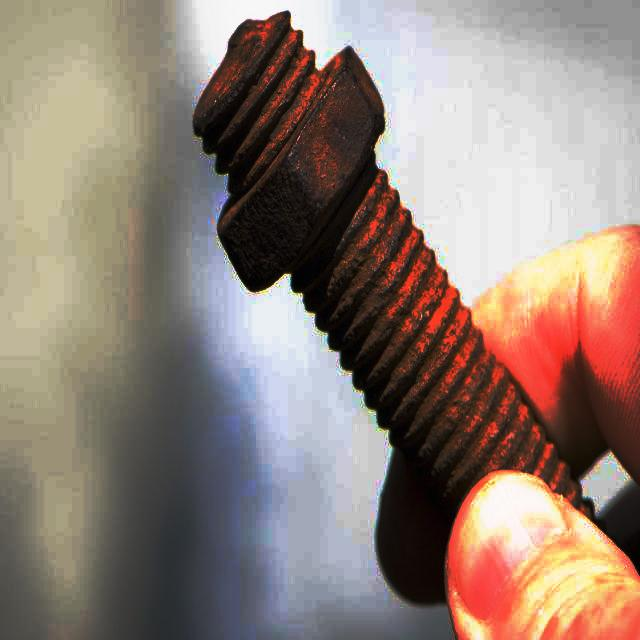Corrosion: (190, 7, 595, 526)
